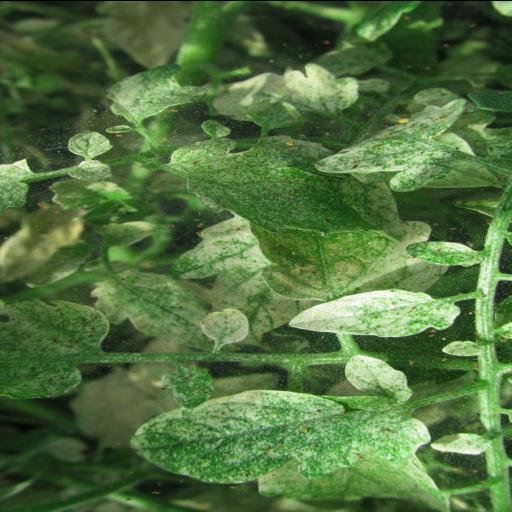disease_tomato: (128, 388, 436, 484), (161, 135, 407, 235), (282, 288, 460, 338)
